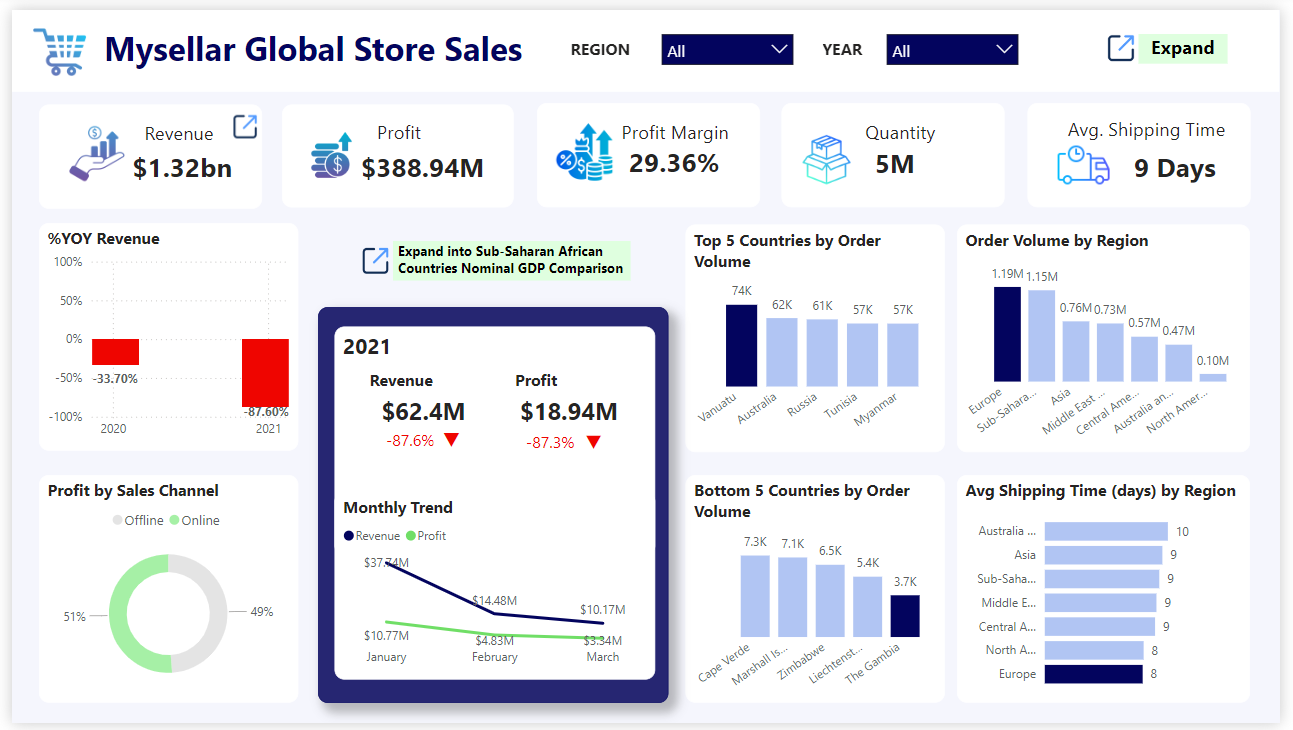

Layout of this report page (visuals, bound fields, positions):
{"tool":"powerbi","page":{"name":"Page 2","canvas":[1280,720],"ordinal":0},"visuals":[{"type":"textbox","box":[0,0,1280,82.9],"z":0},{"type":"group","id":"g1","title":"Group 1","box":[530.8,94.5,225,105],"z":0,"group":"g8"},{"type":"textbox","box":[530.8,94.5,225,105],"z":0,"group":"g1"},{"type":"textbox","box":[776.5,94.5,225,105],"z":0,"group":"g5"},{"type":"textbox","box":[1025.4,94.5,225,105],"z":0,"group":"g2"},{"type":"textbox","box":[27.2,95.6,225,105],"z":0,"group":"g4"},{"type":"textbox","box":[273.3,96.1,234,104],"z":0,"group":"g9"},{"type":"textbox","title":"Expand into Sub-Saharan African Countries Nominal GDP Comparison","box":[384.2,233.3,240,40],"z":0,"group":"g7"},{"type":"textbox","box":[308.3,300,354.3,400],"z":0,"group":"g6"},{"type":"textbox","title":"2021","box":[325.2,320.4,324.3,231.4],"z":0,"group":"g3"},{"type":"group","id":"g2","title":"Group 4","box":[1025.4,94.5,225,105],"z":1000},{"type":"image","box":[544.9,109.5,68.3,68.3],"z":1000,"group":"g8"},{"type":"card","title":"Revenue","fields":{"Values":["measures_.%Profit margin"]},"box":[598.7,133.9,141.7,43.3],"z":1000,"group":"g1"},{"type":"card","title":"Revenue","fields":{"Values":["measures_.profit"]},"box":[333.3,136.1,164,50],"z":1000,"group":"g9"},{"type":"card","title":"Revenue","fields":{"Values":["Sum(Table2.Units Sold)"]},"box":[836.1,137.4,112,38],"z":1000,"group":"g5"},{"type":"card","title":"Revenue","fields":{"Values":["measures_.Avg Ship text"]},"box":[1118.8,137.7,110.6,47],"z":1000,"group":"g2"},{"type":"card","title":"Revenue","fields":{"Values":["measures_.rev"]},"box":[100.8,138.5,142,44],"z":1000,"group":"g4"},{"type":"image","box":[348.5,233.3,37.1,40],"z":1000,"group":"g7"},{"type":"group","id":"g3","title":"Group 1","box":[325.2,320.4,324.3,357],"z":1000,"group":"g6"},{"type":"card","title":"Revenue","fields":{"Values":["measures_.current rev"]},"box":[356,363.5,118.2,66],"z":1000,"group":"g3"},{"type":"textbox","title":"Expand","box":[1137.2,23.6,89.8,29.9],"z":2000},{"type":"textbox","box":[1056.2,102,180,35.8],"z":2000,"group":"g2"},{"type":"textbox","box":[364.2,105,82,40],"z":2000,"group":"g9"},{"type":"textbox","box":[842.1,105.4,110,38],"z":2000,"group":"g5"},{"type":"textbox","box":[610.4,105.6,127,39],"z":2000,"group":"g1"},{"type":"image","box":[50.8,106.5,68,78],"z":2000,"group":"g4"},{"type":"card","fields":{"Values":["measures_.profit YOY%"]},"box":[509.6,424.3,65,28],"z":2000,"group":"g3"},{"type":"image","box":[1101.7,15,37,47],"z":3000},{"type":"textbox","box":[128.8,106.5,90,42],"z":3000,"group":"g4"},{"type":"image","box":[293.3,118.1,60,56],"z":3000,"group":"g9"},{"type":"image","box":[792.1,119.4,60,66],"z":3000,"group":"g5"},{"type":"image","box":[1041.4,122.5,80,70],"z":3000,"group":"g2"},{"type":"card","fields":{"Values":["measures_.profit YoY% indicator"]},"box":[572.6,423.3,28.6,25],"z":3000,"group":"g3"},{"type":"textbox","title":"Mysellar Global Store Sales","box":[88.6,15.7,435.7,51.4],"z":4000},{"type":"card","title":"Profit","fields":{"Values":["measures_.current profit"]},"box":[501.9,363.5,118.2,66],"z":4000,"group":"g3"},{"type":"image","box":[11.7,10,71.7,63.3],"z":5000},{"type":"card","fields":{"Values":["measures_.Rev YOY%"]},"box":[371.4,418.9,61.1,36],"z":5000,"group":"g3"},{"type":"columnChart","title":"Top 5 Countries by Order Volume","fields":{"Category":["orders.Country"],"Y":["Sum(orders.Units Sold)"]},"box":[680,216,262,230],"z":6000},{"type":"card","fields":{"Values":["measures_.Rev YoY% indicator"]},"box":[425.8,422.3,35.5,28],"z":6000,"group":"g3"},{"type":"group","id":"g4","title":"Group 1","box":[27.2,95.6,225,105],"z":7000},{"type":"lineChart","title":"Monthly Trend ","fields":{"Category":["date table.Month Name"],"Y":["measures_.rev","measures_.profit"]},"box":[325.2,487.4,324,190],"z":7000,"group":"g3"},{"type":"columnChart","title":"Bottom 5 Countries by Order Volume","fields":{"Category":["orders.Country"],"Y":["Sum(orders.Units Sold)"]},"box":[680,470,262,230],"z":8000},{"type":"group","id":"g5","title":"Group 3","box":[776.5,94.5,225.2,105.5],"z":9000},{"type":"slicer","fields":{"Values":["Table2.Region"]},"box":[642.9,10,160,61.4],"z":10000},{"type":"textbox","box":[558.6,22.9,84.3,37.1],"z":11000},{"type":"clusteredColumnChart","title":"%YOY Revenue ","fields":{"Y":["measures_.Rev YOY% Var"],"Category":["date table.Year"]},"box":[26.7,215,261.7,230],"z":12000},{"type":"textbox","box":[814.3,22.9,58.6,37.1],"z":13000},{"type":"slicer","fields":{"Values":["date table.Year"]},"box":[870,10,160,61.4],"z":14000},{"type":"donutChart","title":"Profit by Sales Channel","fields":{"Y":["measures_.rev"],"Series":["orders.Sales Channel"]},"box":[26.7,470,261.7,230],"z":15000},{"type":"columnChart","title":"Order Volume by Region","fields":{"Category":["orders.Region"],"Y":["Sum(orders.Units Sold)"]},"box":[954,216,296,230],"z":16000},{"type":"clusteredBarChart","title":"Avg Shipping Time (days) by Region","fields":{"Category":["orders.Region"],"Y":["measures_.Avg ship time"]},"box":[954,470,296,230],"z":17000},{"type":"group","id":"g6","title":"Group 2","box":[308.3,300,355,400],"z":19000},{"type":"image","box":[218.6,98.6,34.3,38.6],"z":20000},{"type":"group","id":"g7","title":"Group 7","box":[348.5,233.3,275.8,39.4],"z":23000},{"type":"group","id":"g8","title":"Group 6","box":[530.8,94.5,225.2,105.5],"z":25000},{"type":"group","id":"g9","title":"Group 8","box":[273.3,96.1,234.7,104],"z":26000}]}

Visuals, with their boxes in screenshot pixels (x1, y1, x2, y2), scaled from the page's 1280x720 canvas onto the 1293x730 screenshot:
textbox: (x1=0, y1=0, x2=1292, y2=84)
"Group 1" group: (x1=536, y1=96, x2=763, y2=202)
textbox: (x1=536, y1=96, x2=763, y2=202)
textbox: (x1=784, y1=96, x2=1012, y2=202)
textbox: (x1=1036, y1=96, x2=1263, y2=202)
textbox: (x1=27, y1=97, x2=255, y2=203)
textbox: (x1=276, y1=97, x2=512, y2=203)
"Expand into Sub-Saharan African Countries Nominal GDP Comparison" textbox: (x1=388, y1=237, x2=631, y2=277)
textbox: (x1=311, y1=304, x2=669, y2=710)
"2021" textbox: (x1=329, y1=325, x2=656, y2=559)
"Group 4" group: (x1=1036, y1=96, x2=1263, y2=202)
image: (x1=550, y1=111, x2=619, y2=180)
"Revenue" card: (x1=605, y1=136, x2=748, y2=180)
"Revenue" card: (x1=337, y1=138, x2=502, y2=189)
"Revenue" card: (x1=845, y1=139, x2=958, y2=178)
"Revenue" card: (x1=1130, y1=140, x2=1242, y2=187)
"Revenue" card: (x1=102, y1=140, x2=245, y2=185)
image: (x1=352, y1=237, x2=390, y2=277)
"Group 1" group: (x1=329, y1=325, x2=656, y2=687)
"Revenue" card: (x1=360, y1=369, x2=479, y2=435)
"Expand" textbox: (x1=1149, y1=24, x2=1239, y2=54)
textbox: (x1=1067, y1=103, x2=1249, y2=140)
textbox: (x1=368, y1=106, x2=451, y2=147)
textbox: (x1=851, y1=107, x2=962, y2=145)
textbox: (x1=617, y1=107, x2=745, y2=147)
image: (x1=51, y1=108, x2=120, y2=187)
card - measures_.profit YOY%: (x1=515, y1=430, x2=580, y2=459)
image: (x1=1113, y1=15, x2=1150, y2=63)
textbox: (x1=130, y1=108, x2=221, y2=151)
image: (x1=296, y1=120, x2=357, y2=177)
image: (x1=800, y1=121, x2=861, y2=188)
image: (x1=1052, y1=124, x2=1133, y2=195)
card - measures_.profit YoY% indicator: (x1=578, y1=429, x2=607, y2=455)
"Mysellar Global Store Sales" textbox: (x1=89, y1=16, x2=530, y2=68)
"Profit" card: (x1=507, y1=369, x2=626, y2=435)
image: (x1=12, y1=10, x2=84, y2=74)
card - measures_.Rev YOY%: (x1=375, y1=425, x2=437, y2=461)
"Top 5 Countries by Order Volume" columnChart: (x1=687, y1=219, x2=952, y2=452)
card - measures_.Rev YoY% indicator: (x1=430, y1=428, x2=466, y2=457)
"Group 1" group: (x1=27, y1=97, x2=255, y2=203)
"Monthly Trend " lineChart: (x1=329, y1=494, x2=656, y2=687)
"Bottom 5 Countries by Order Volume" columnChart: (x1=687, y1=477, x2=952, y2=710)
"Group 3" group: (x1=784, y1=96, x2=1012, y2=203)
slicer - Table2.Region: (x1=649, y1=10, x2=811, y2=72)
textbox: (x1=564, y1=23, x2=649, y2=61)
"%YOY Revenue " clusteredColumnChart: (x1=27, y1=218, x2=291, y2=451)
textbox: (x1=823, y1=23, x2=882, y2=61)
slicer - date table.Year: (x1=879, y1=10, x2=1040, y2=72)
"Profit by Sales Channel" donutChart: (x1=27, y1=477, x2=291, y2=710)
"Order Volume by Region" columnChart: (x1=964, y1=219, x2=1263, y2=452)
"Avg Shipping Time (days) by Region" clusteredBarChart: (x1=964, y1=477, x2=1263, y2=710)
"Group 2" group: (x1=311, y1=304, x2=670, y2=710)
image: (x1=221, y1=100, x2=255, y2=139)
"Group 7" group: (x1=352, y1=237, x2=631, y2=276)
"Group 6" group: (x1=536, y1=96, x2=764, y2=203)
"Group 8" group: (x1=276, y1=97, x2=513, y2=203)
